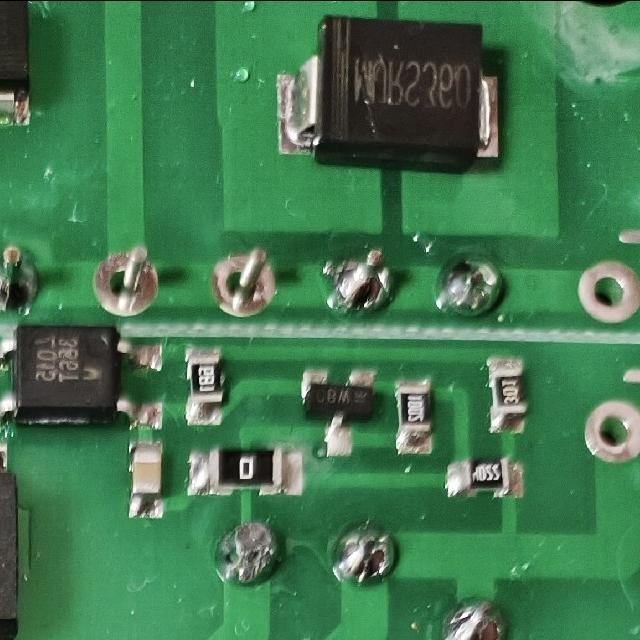chip-capacitor: (123, 435, 165, 521)
chip-resistor: (182, 445, 303, 499), (181, 341, 226, 428), (481, 354, 528, 434), (441, 456, 525, 499), (392, 374, 435, 457)
diode: (272, 16, 505, 171)
ic: (0, 322, 166, 434)
transistor: (294, 362, 378, 457)
